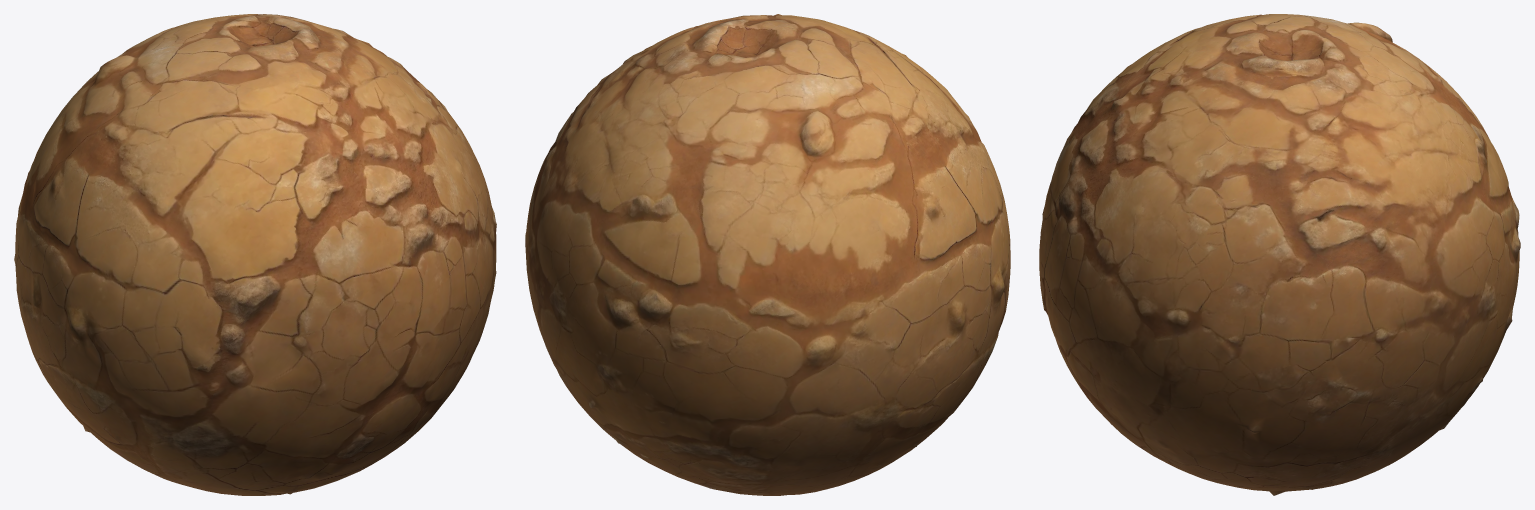
File: dry_planet_3.glb
The picture shows the model from 3 angles, left to right: view 1: azimuth 30°, elevation 25°; view 2: azimuth 150°, elevation 25°; view 3: azimuth 270°, elevation 25°; orthographic projection.
Parts seen in each view (by area): view 1: Mesh_0.016; view 2: Mesh_0.016; view 3: Mesh_0.016.
Part boxes in pixels (x1,y1,x2,y2): Mesh_0.016: (14, 14, 496, 495); Mesh_0.016: (525, 14, 1010, 495); Mesh_0.016: (1039, 14, 1520, 495).
Bounding box in the file's own units: 2 × 1.97 × 1.99.
Materials: 1 (1 with a texture image).
